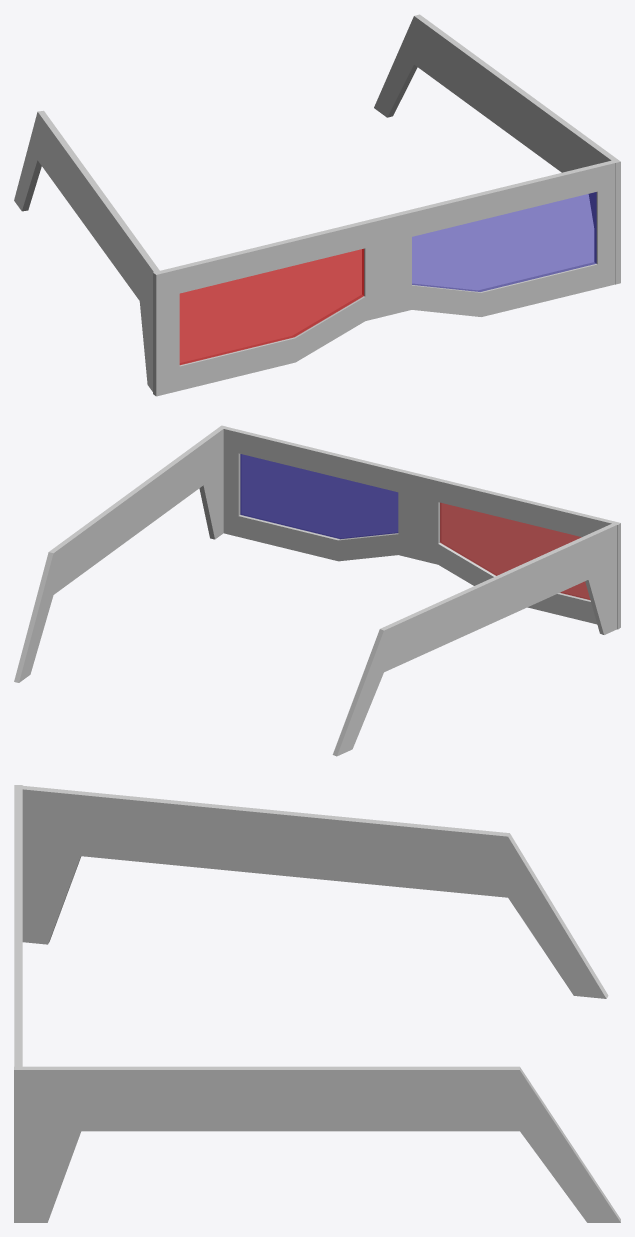
Rendered from 3d-glasses.gltf.
3 renders of one model, top to bottom at view 1: azimuth 30°, elevation 25°; view 2: azimuth 150°, elevation 25°; view 3: azimuth 270°, elevation 25°, orthographic. The views are drawn at different scales.
Visible parts, largest first — view 1: Line001_Material #56_0, Plane003, Plane004, Plane001; view 2: Line001_Material #56_0, Plane002, Plane004, Plane001, Plane003; view 3: Line001_Material #56_0.
Boxes of the visible parts, x1=… form: Line001_Material #56_0: x1=14, y1=14, x2=620, y2=396; Plane003: x1=179, y1=249, x2=364, y2=365; Plane004: x1=412, y1=192, x2=596, y2=291; Plane001: x1=180, y1=249, x2=363, y2=364; Line001_Material #56_0: x1=14, y1=425, x2=620, y2=756; Plane002: x1=240, y1=454, x2=398, y2=539; Plane004: x1=241, y1=454, x2=397, y2=538; Plane001: x1=440, y1=502, x2=590, y2=599; Plane003: x1=440, y1=503, x2=589, y2=599; Line001_Material #56_0: x1=14, y1=785, x2=620, y2=1222.
Size of the model in its own units: 5.08 by 1.27 by 4.57.
